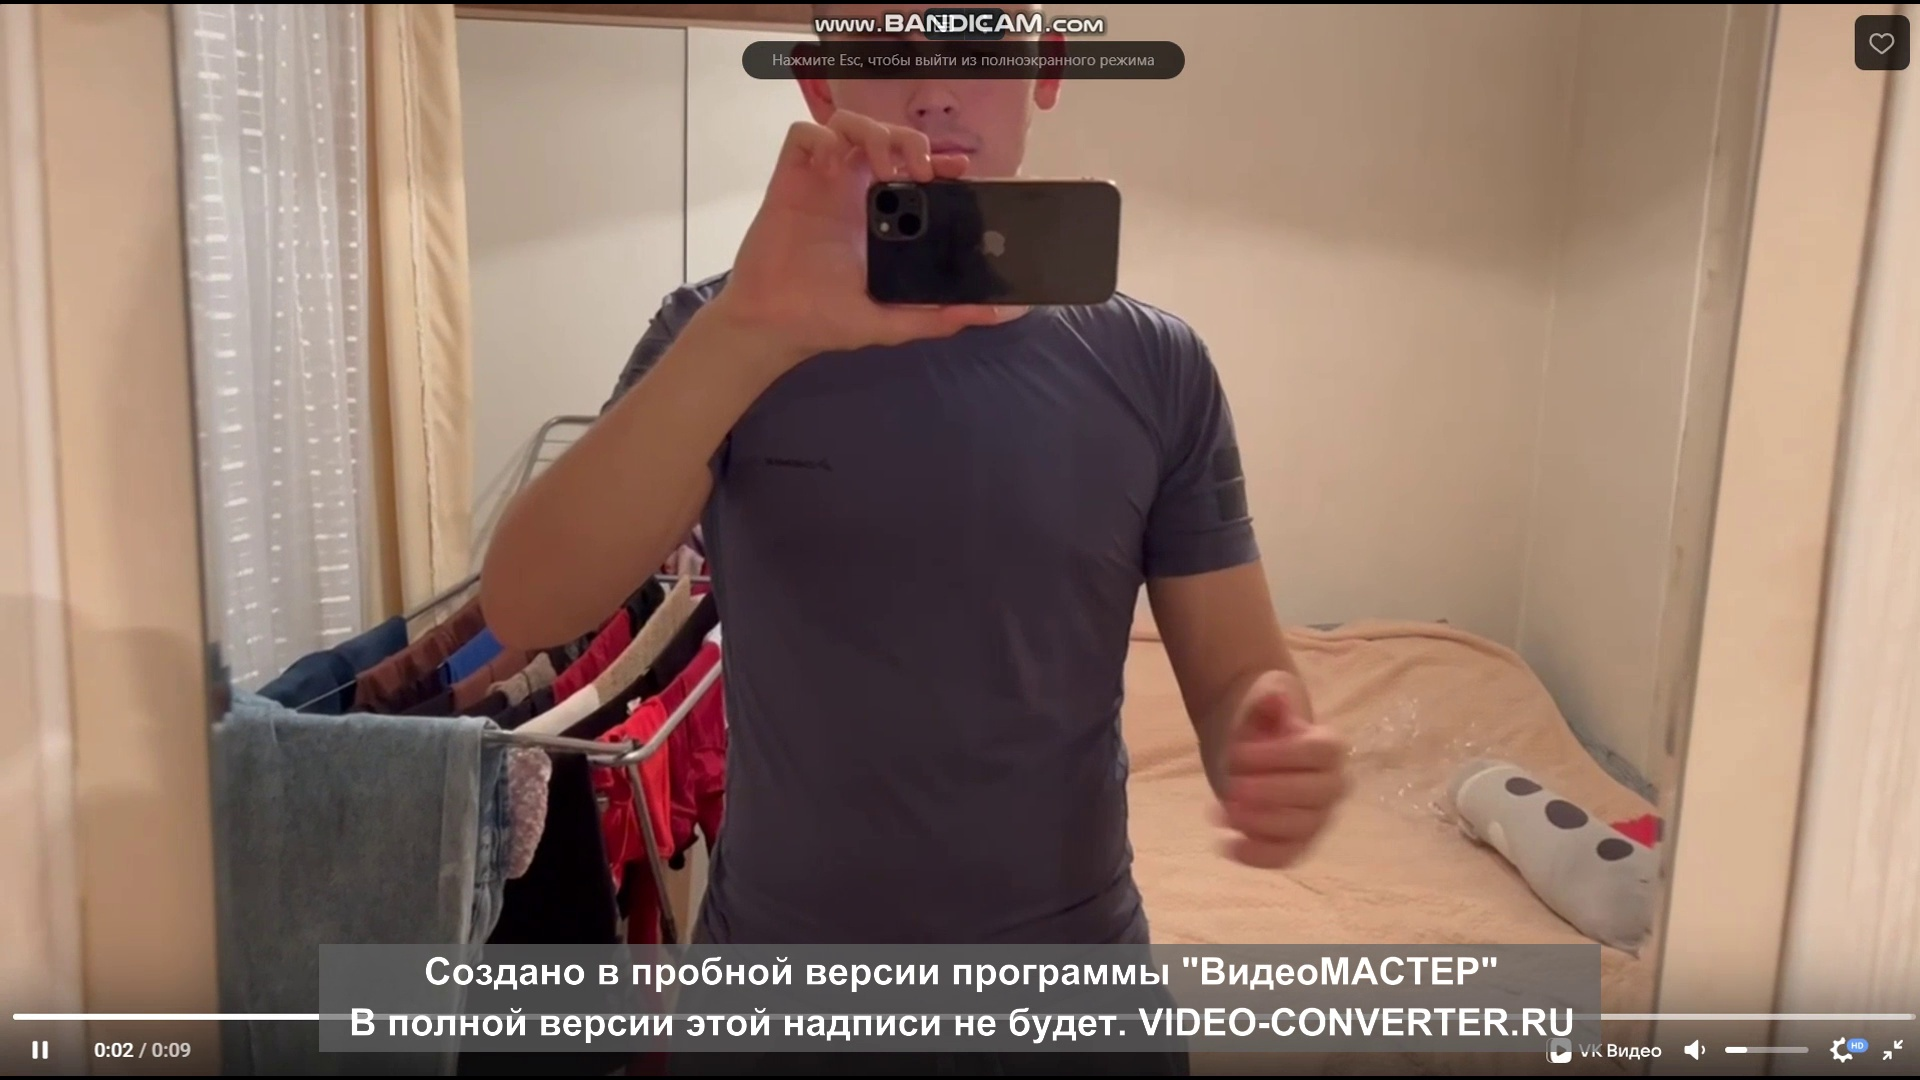Кисть: (1218, 674, 1350, 868)
